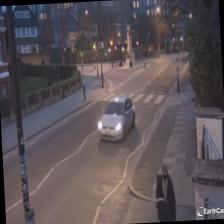person: (154, 164, 176, 222)
